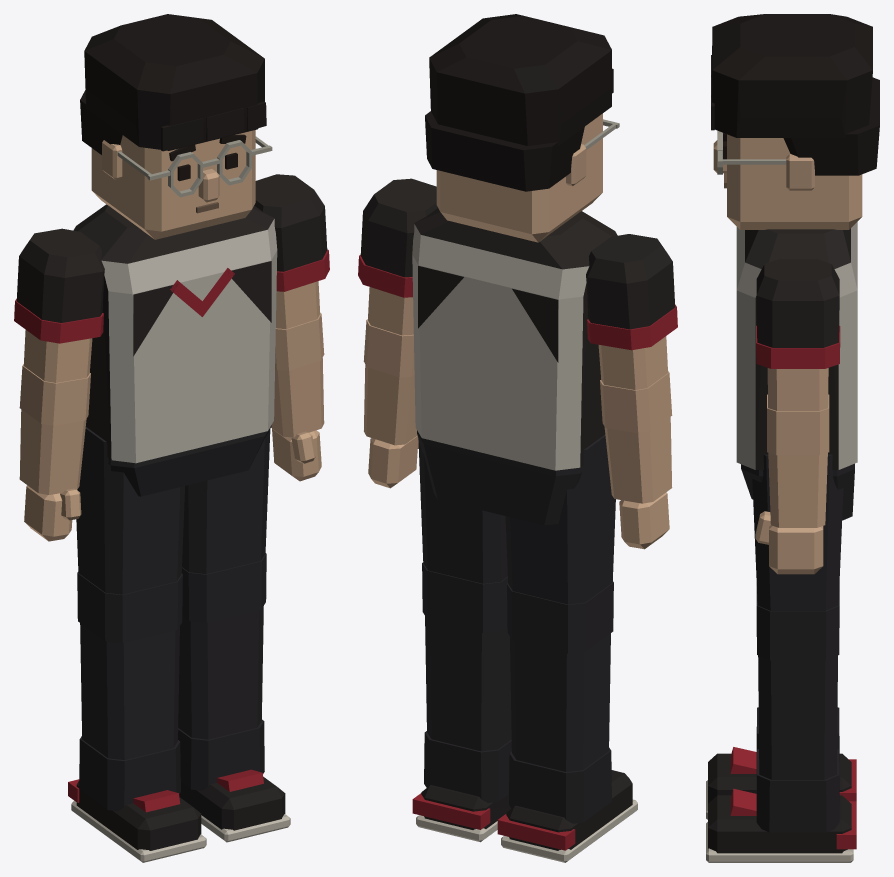
File: tl_char_host_doran_v01.glb
3 views of the same model, side by side, from view 1: azimuth 30°, elevation 25°; view 2: azimuth 150°, elevation 25°; view 3: azimuth 270°, elevation 25° (orthographic). The views are drawn at different scales.
Parts seen in each view (by area): view 1: spine, head, leg_lower_r, leg_lower_l, leg_upper_r, arm_upper_r, arm_lower_r, leg_upper_l, arm_upper_l, arm_lower_l, hips; view 2: spine, head, leg_lower_r, leg_lower_l, arm_upper_r, leg_upper_r, arm_lower_r, hips, arm_upper_l, arm_lower_l, leg_upper_l; view 3: head, leg_lower_l, spine, arm_upper_l, arm_lower_l, leg_upper_l, leg_lower_r, hips.
Boxes of the visible parts, <box> form: spine: <box>73,204,277,463</box>; head: <box>80,14,272,239</box>; leg_lower_r: <box>68,572,206,862</box>; leg_lower_l: <box>178,553,290,842</box>; leg_upper_r: <box>76,427,184,594</box>; arm_upper_r: <box>14,228,104,382</box>; arm_lower_r: <box>19,364,90,541</box>; leg_upper_l: <box>182,429,270,574</box>; arm_upper_l: <box>254,174,329,329</box>; arm_lower_l: <box>271,313,324,481</box>; hips: <box>108,425,271,496</box>; spine: <box>412,208,617,470</box>; head: <box>425,14,619,242</box>; leg_lower_r: <box>497,581,637,862</box>; leg_lower_l: <box>412,562,511,842</box>; arm_upper_r: <box>586,234,677,389</box>; leg_upper_r: <box>505,434,615,604</box>; arm_lower_r: <box>600,371,672,549</box>; hips: <box>417,430,582,525</box>; arm_upper_l: <box>358,178,437,335</box>; arm_lower_l: <box>363,319,418,488</box>; leg_upper_l: <box>418,439,507,583</box>; head: <box>711,14,879,229</box>; leg_lower_l: <box>706,584,856,862</box>; spine: <box>736,222,857,469</box>; arm_upper_l: <box>756,259,840,410</box>; arm_lower_l: <box>755,394,829,574</box>; leg_upper_l: <box>752,454,843,610</box>; leg_lower_r: <box>706,707,856,819</box>; hips: <box>741,463,854,520</box>.
Size of the model in its own units: 0.6976 by 1.78 by 0.3548.
